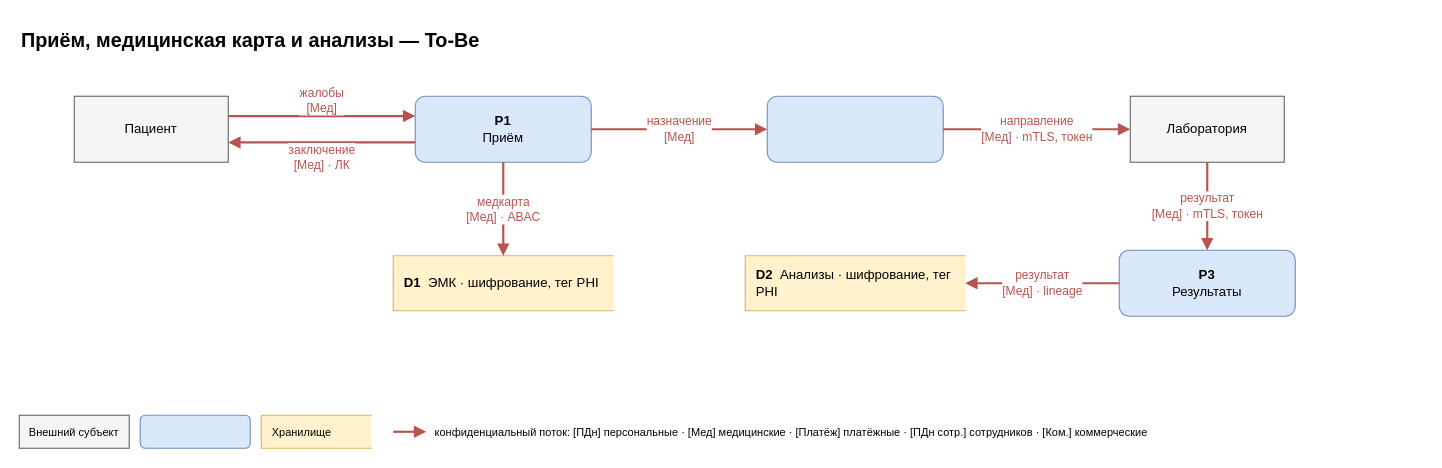
Image size: 1442x468. Some labels were removed from this diagram. Each missing label, with the centre of its shape:
"P2 Направление" belongs at pixel 854 128.
"Процесс" belongs at pixel 194 431.
